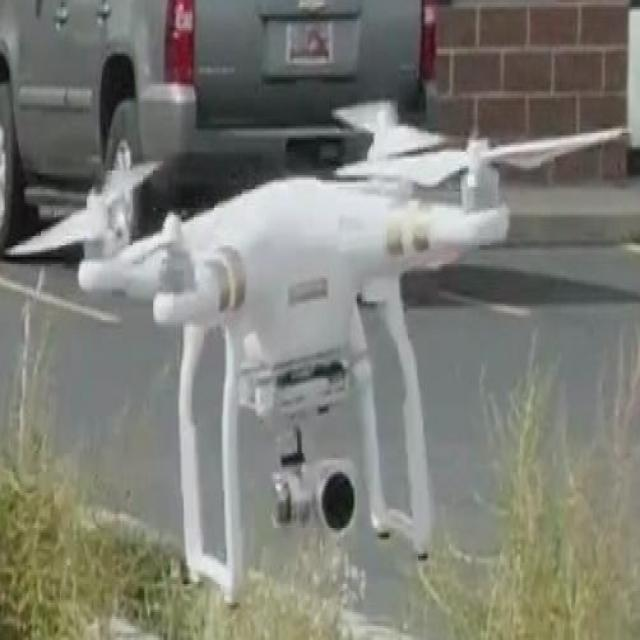drone: (0, 91, 636, 605)
